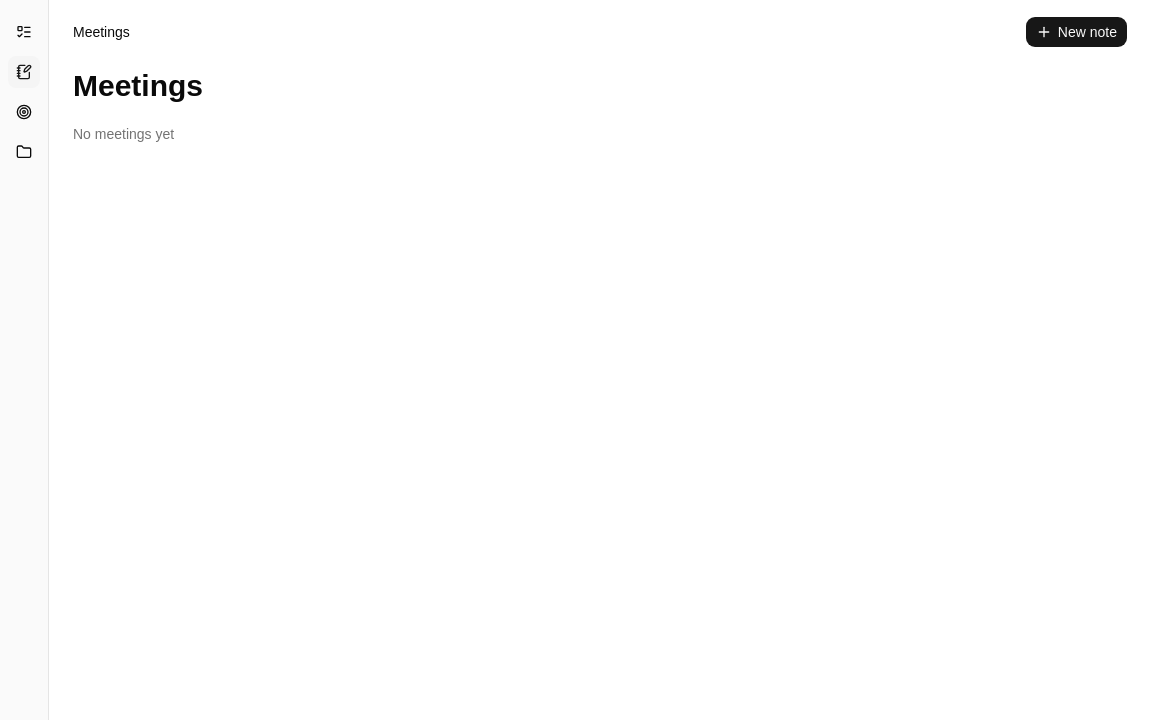
Test case: Work section › opens the Work page, marks the link as current, and shows the breadcrumb and New task
The image size is (1152, 720).
Click the 1st link named "Work" at (24, 32), box [8,16,40,48]
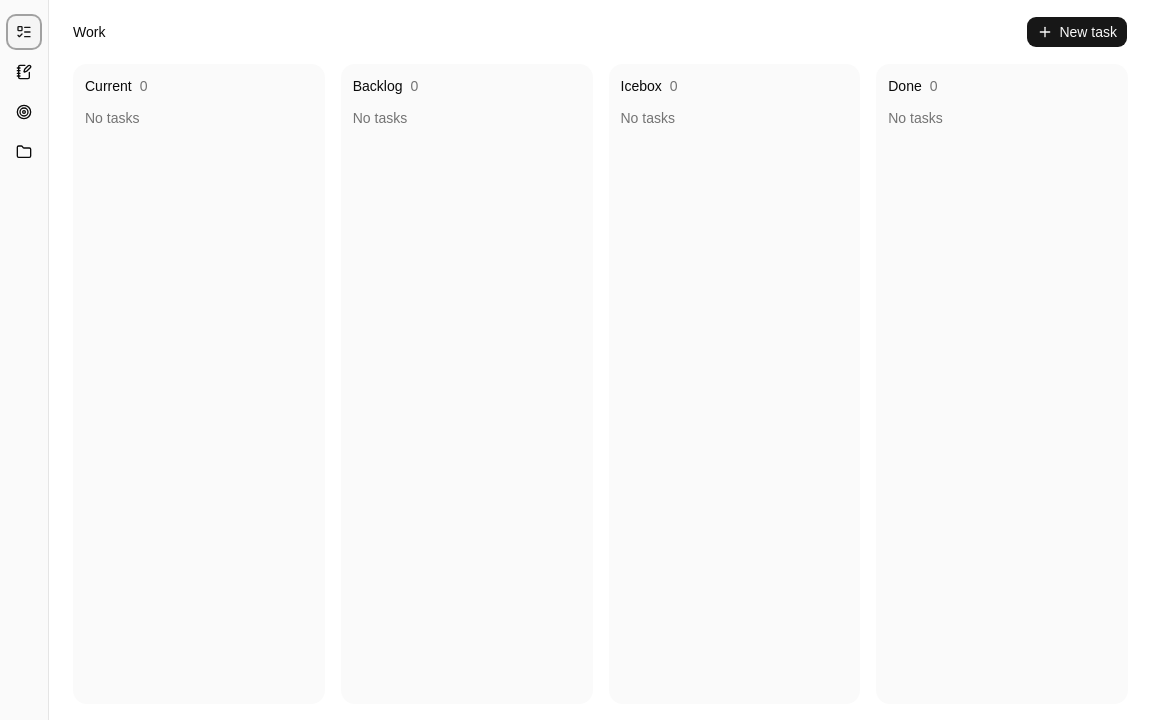
Expected: the link "Work" is shown, [73,22,105,42]
Expected: the button "New task" is shown, [1026,16,1128,48]
